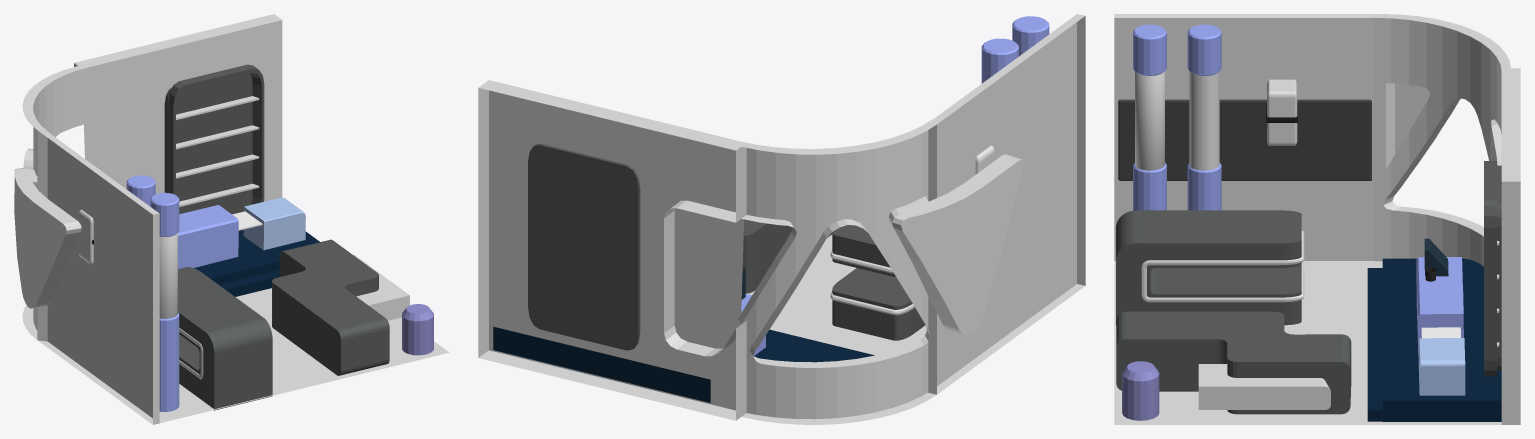
Rendered from VRprojectPMM.fbx.
The picture shows the model from 3 angles, left to right: view 1: azimuth 30°, elevation 25°; view 2: azimuth 150°, elevation 25°; view 3: azimuth 270°, elevation 25°; orthographic projection. The views are drawn at different scales.
Visible parts, largest first — view 1: 평면, 평면.009, 평면.013, pink, counter1, 원형.001, counter4, 큐브, 평면.010, 실린더, 원형.003, 큐브.003 (+3 smaller); view 2: 평면, 평면.009, 큐브, pink, 평면.013, 원형.002, 원형.001, pink.002; view 3: 평면, pink, 평면.013, 평면.014, 큐브, 큐브.003, 평면.009, 원형.002, 원형.001, counter1, 실린더.001, 실린더 (+7 smaller).
Part boxes in pixels (box(x1,y1,x2,y2)): 평면: box(14, 14, 449, 424); 평면.009: box(164, 64, 264, 214); 평면.013: box(272, 239, 389, 375); pink: box(178, 267, 272, 410); counter1: box(178, 205, 238, 268); 원형.001: box(150, 192, 179, 411); counter4: box(243, 197, 305, 250); 큐브: box(194, 229, 319, 284); 평면.010: box(176, 96, 259, 206); 실린더: box(159, 233, 177, 318); 원형.003: box(402, 304, 433, 355); 큐브.003: box(354, 255, 409, 320); 평면: box(478, 14, 1085, 424); 평면.009: box(528, 143, 640, 350); 큐브: box(493, 326, 874, 402); pink: box(832, 225, 925, 340); 평면.013: box(742, 219, 832, 293); 원형.002: box(981, 38, 1018, 83); 원형.001: box(1012, 16, 1049, 56); pink.002: box(830, 250, 914, 315); 평면: box(1114, 14, 1520, 424); pink: box(1116, 210, 1301, 325); 평면.013: box(1116, 311, 1351, 414); 평면.014: box(1118, 99, 1371, 180); 큐브: box(1382, 258, 1501, 421); 큐브.003: box(1198, 364, 1330, 409); 평면.009: box(1484, 161, 1501, 376); 원형.002: box(1187, 24, 1221, 210); 원형.001: box(1133, 24, 1166, 210); counter1: box(1416, 257, 1463, 356); 실린더.001: box(1189, 71, 1219, 170); 실린더: box(1135, 71, 1164, 170).
Bounding box in the file's own units: 35847 × 22930 × 34498.
